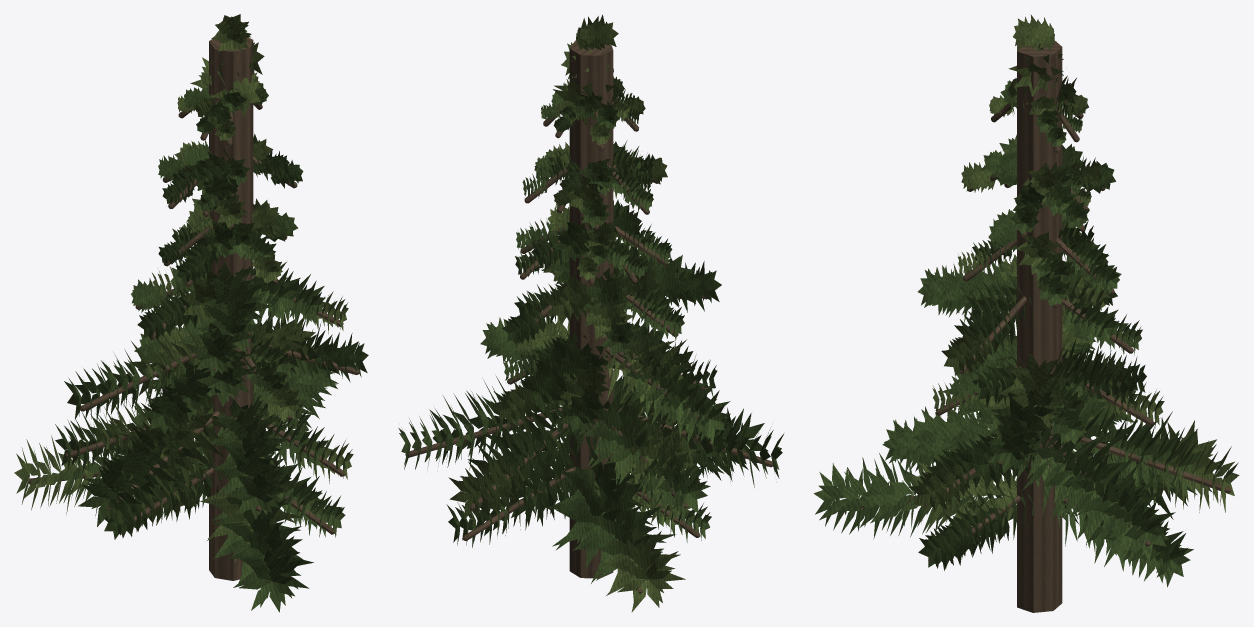
The model's file is pine_c.glb.
3 renders of one model, left to right at view 1: azimuth 30°, elevation 25°; view 2: azimuth 150°, elevation 25°; view 3: azimuth 270°, elevation 25°, orthographic. The views are drawn at different scales.
Parts seen in each view (by area): view 1: Pine needles, Sunlit pine tips, Dark endgrain; view 2: Pine needles, Sunlit pine tips, Dark endgrain; view 3: Pine needles, Sunlit pine tips, Dark endgrain.
Boxes of the visible parts, box(x1,y1,x2,y2) form: Pine needles: box(55, 72, 368, 612); Sunlit pine tips: box(14, 14, 353, 562); Dark endgrain: box(28, 37, 359, 583); Pine needles: box(398, 76, 783, 583); Sunlit pine tips: box(448, 14, 697, 612); Dark endgrain: box(405, 40, 773, 593); Pine needles: box(813, 78, 1201, 587); Sunlit pine tips: box(908, 14, 1239, 534); Dark endgrain: box(838, 40, 1231, 612).
Size of the model in its own units: 1.6 by 2.63 by 1.73.
3 materials, 3 textured.
